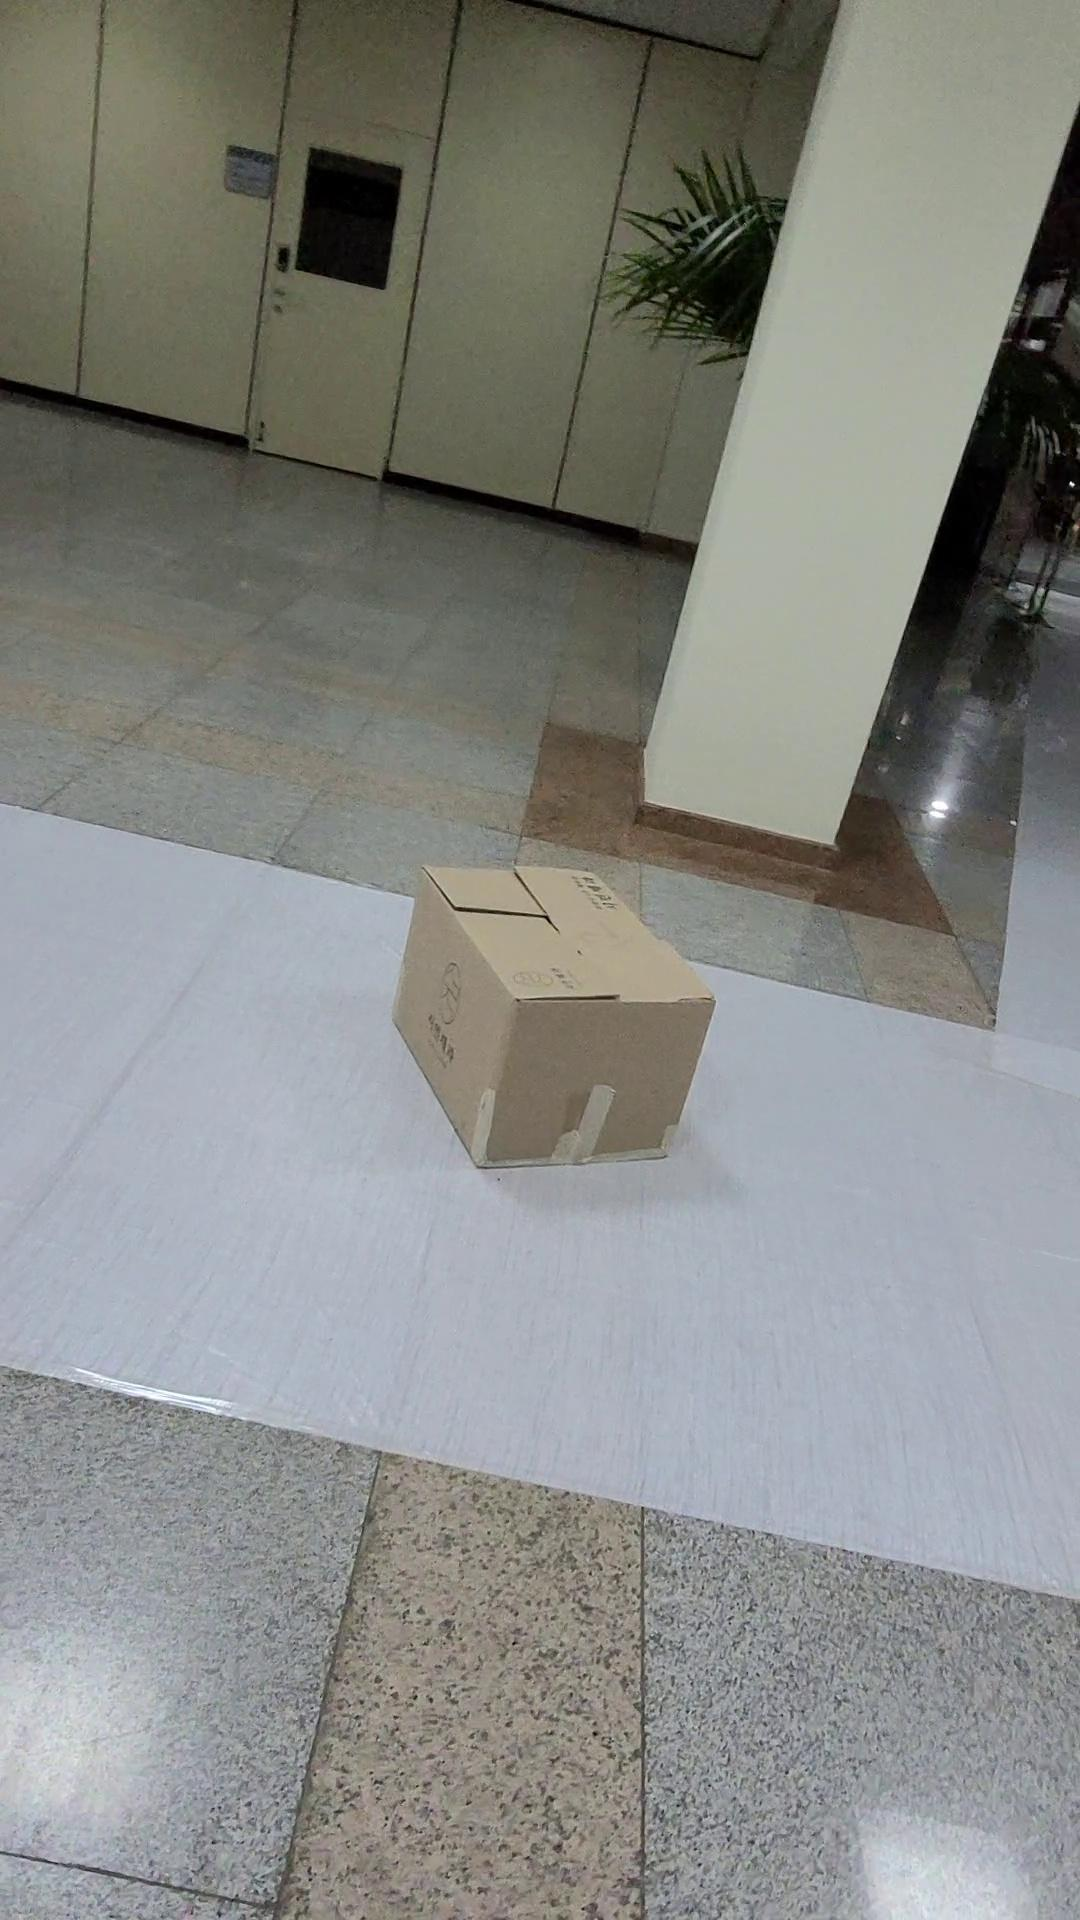Box: (381, 851, 720, 1182)
